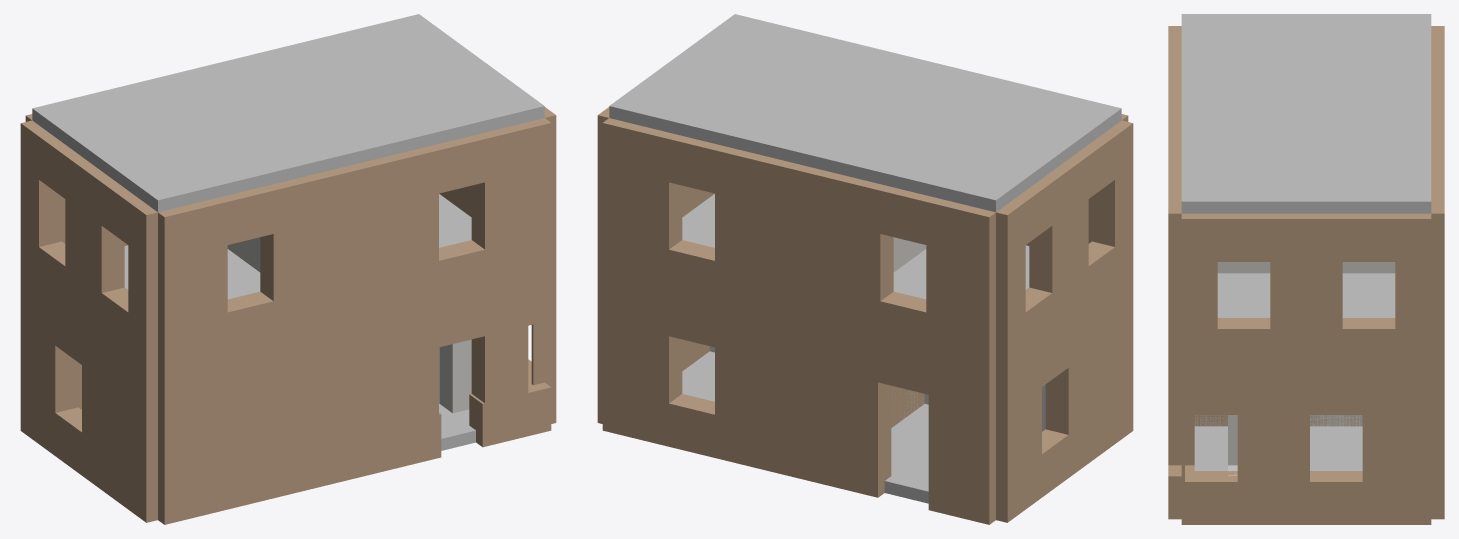
The model's file is cottage_georgian_s42.glb.
The picture shows the model from 3 angles, left to right: view 1: azimuth 30°, elevation 25°; view 2: azimuth 150°, elevation 25°; view 3: azimuth 270°, elevation 25°; orthographic projection.
Parts seen in each view (by area): view 1: ceiling_slab, floor_0_wall_13, floor_1_wall_8, floor_1_wall_1, floor_0_wall_16, floor_1_wall_2, floor_0_wall_2, floor_0_wall_14, floor_1_wall_5, floor_0_wall_9, floor_1_slab, floor_0_wall_15 (+4 smaller); view 2: ceiling_slab, floor_1_wall_9, floor_1_wall_3, floor_0_wall_7, floor_0_wall_3, floor_1_wall_2, floor_0_wall_2, floor_1_wall_6, floor_0_wall_11, floor_0_wall_14, floor_0_slab, floor_1_slab (+4 smaller); view 3: ceiling_slab, floor_1_wall_7, floor_0_wall_4, floor_0_wall_15, floor_1_slab, floor_0_slab, floor_1_wall_8, floor_1_wall_9, floor_0_wall_16, floor_0_wall_7, floor_1_wall_4, floor_1_wall_1 (+4 smaller).
Boxes of the visible parts, x1,y1,x2,y2 form: ceiling_slab: (32, 14, 544, 212); floor_0_wall_13: (158, 329, 336, 524); floor_1_wall_8: (366, 118, 551, 320); floor_1_wall_1: (158, 170, 336, 370); floor_0_wall_16: (372, 277, 551, 473); floor_1_wall_2: (20, 120, 157, 368); floor_0_wall_2: (20, 277, 116, 500); floor_0_wall_14: (116, 347, 157, 522); floor_1_wall_5: (330, 161, 372, 328); floor_0_wall_9: (336, 320, 372, 482); floor_1_slab: (124, 194, 471, 299); floor_0_wall_15: (528, 269, 556, 423); ceiling_slab: (609, 14, 1121, 212); floor_1_wall_9: (602, 118, 787, 320); floor_1_wall_3: (817, 170, 995, 370); floor_0_wall_7: (602, 277, 781, 473); floor_0_wall_3: (817, 329, 995, 524); floor_1_wall_2: (996, 120, 1133, 368); floor_0_wall_2: (996, 299, 1103, 522); floor_1_wall_6: (781, 161, 823, 328); floor_0_wall_11: (781, 320, 817, 482); floor_0_wall_14: (1103, 277, 1133, 452); floor_0_slab: (682, 351, 928, 503); floor_1_slab: (682, 194, 1029, 299); ceiling_slab: (1181, 14, 1431, 213); floor_1_wall_7: (1181, 213, 1431, 371); floor_0_wall_4: (1241, 372, 1431, 524); floor_0_wall_15: (1181, 372, 1240, 524); floor_1_slab: (1217, 273, 1395, 317); floor_0_slab: (1194, 426, 1362, 470); floor_1_wall_8: (1168, 127, 1181, 366); floor_1_wall_9: (1431, 127, 1444, 366); floor_0_wall_16: (1168, 366, 1194, 519); floor_0_wall_7: (1431, 366, 1444, 519); floor_1_wall_4: (1217, 262, 1395, 273); floor_1_wall_1: (1168, 26, 1181, 109).
Size of the model in its own units: 8.92 by 7.35 by 5.24.
